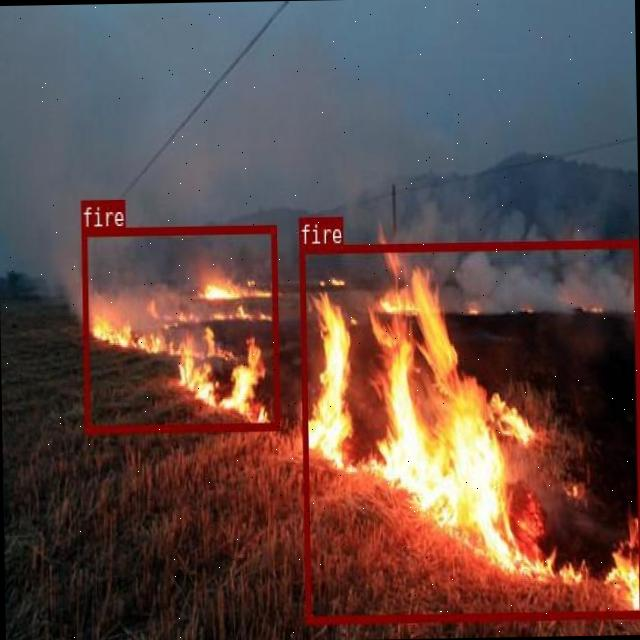fire: (297, 238, 640, 621), (80, 224, 278, 431)
